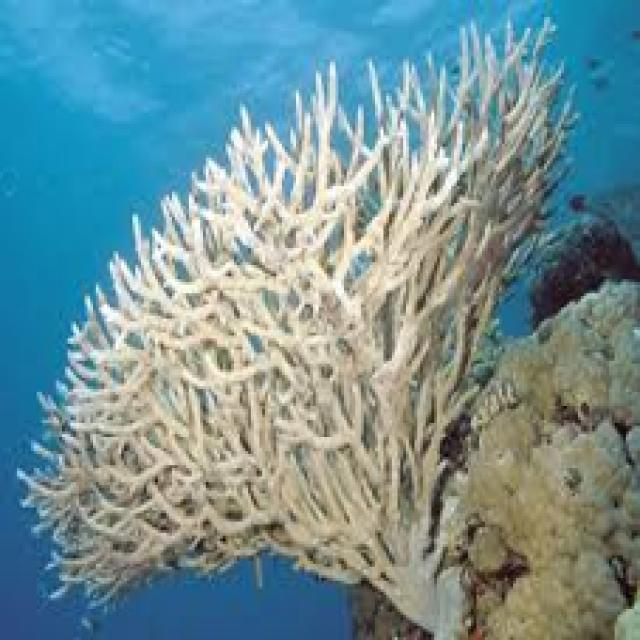Bleached: (26, 21, 573, 618), (435, 280, 638, 638)
